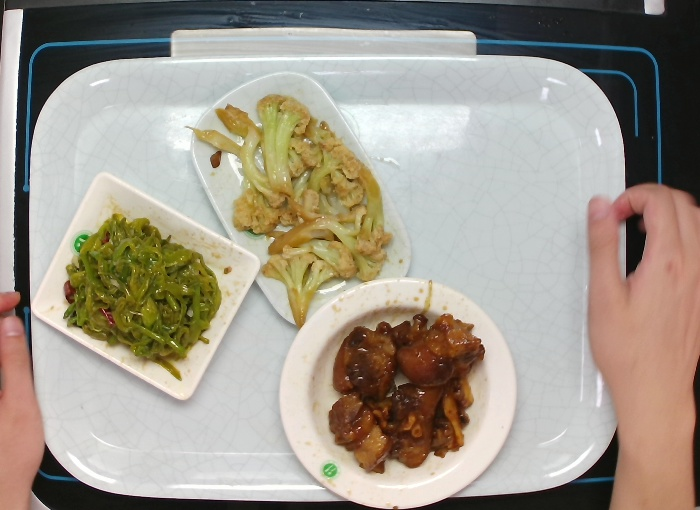WCQzf-Bai_Se_Si_Fang_Die: (30, 171, 267, 412)
WCQzf-Kuan_Bian_Yuan_Die: (272, 271, 520, 510)
WCQzf-Tuo_Yuan_Pan: (186, 66, 412, 338)
